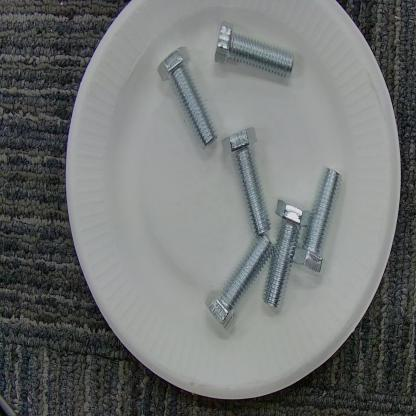FOD: (154, 18, 344, 336)
